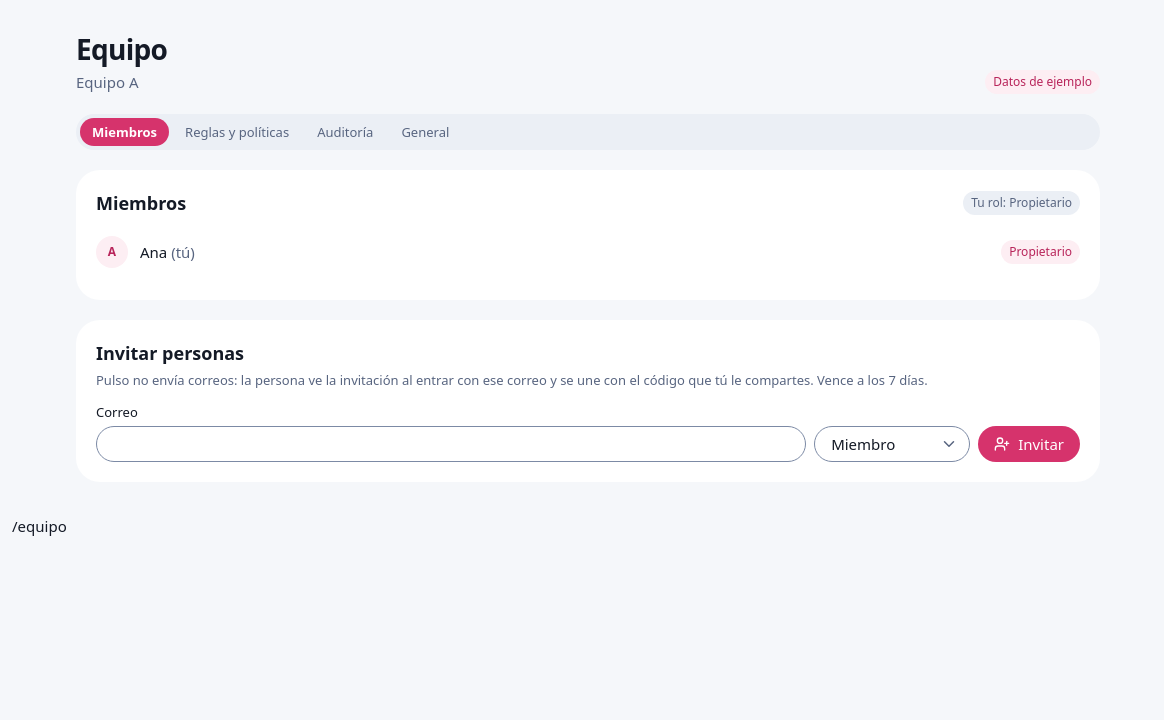
Test: Reglas por app (TA-11, AC-23) › añade «  Code.exe » como «code» con la categoría elegida, lo muestra y reenvía las reglas a Rust
Click the tab "Reglas y políticas" at (237,132), box top-left (173, 118), bottom-right (301, 146)
(page scrolled)
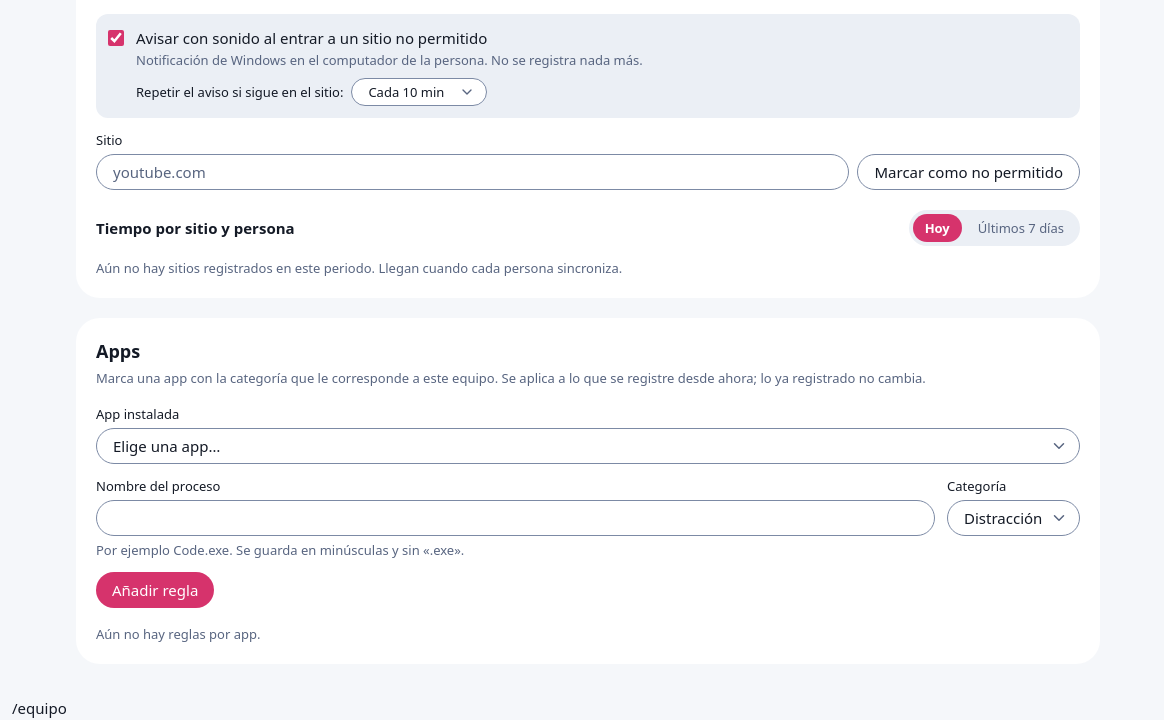
Type "  Code.exe " into the field labelled "Nombre del proceso" at (516,518), box top-left (96, 500), bottom-right (935, 536)
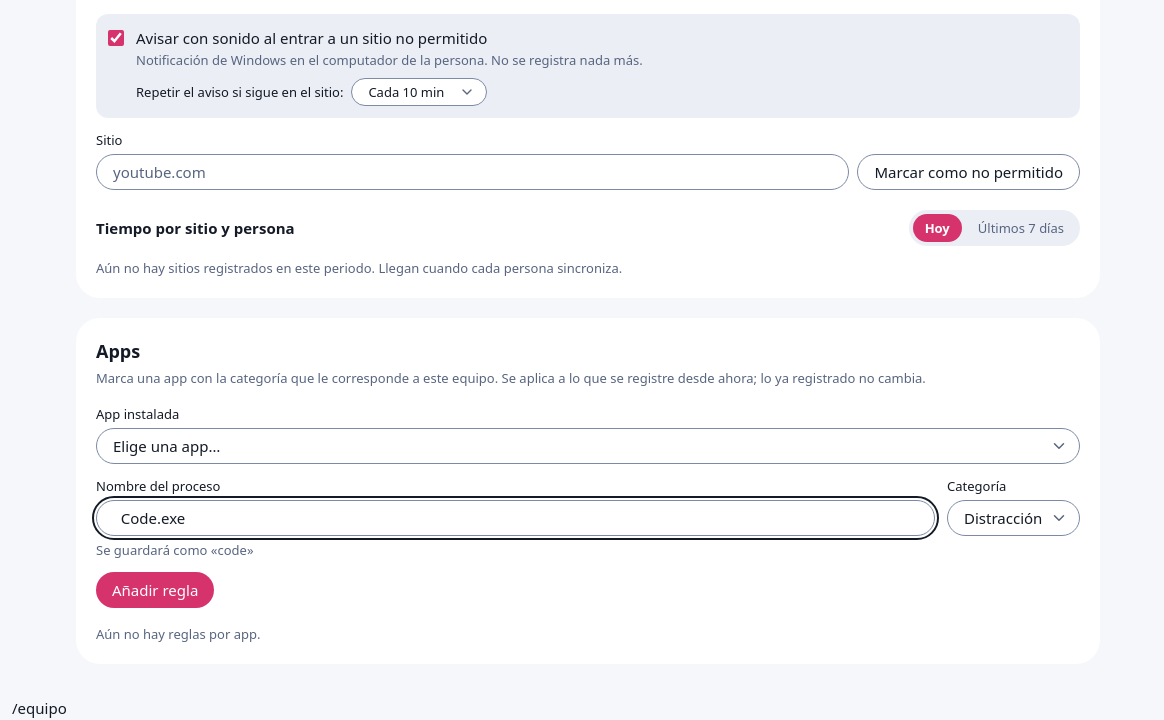
Check: the text "Se guardará como «code»" is shown, box top-left (96, 541), bottom-right (254, 559)
Select "Productivo" in the dropdown labelled "Categoría" at (1014,518), box top-left (947, 500), bottom-right (1080, 536)
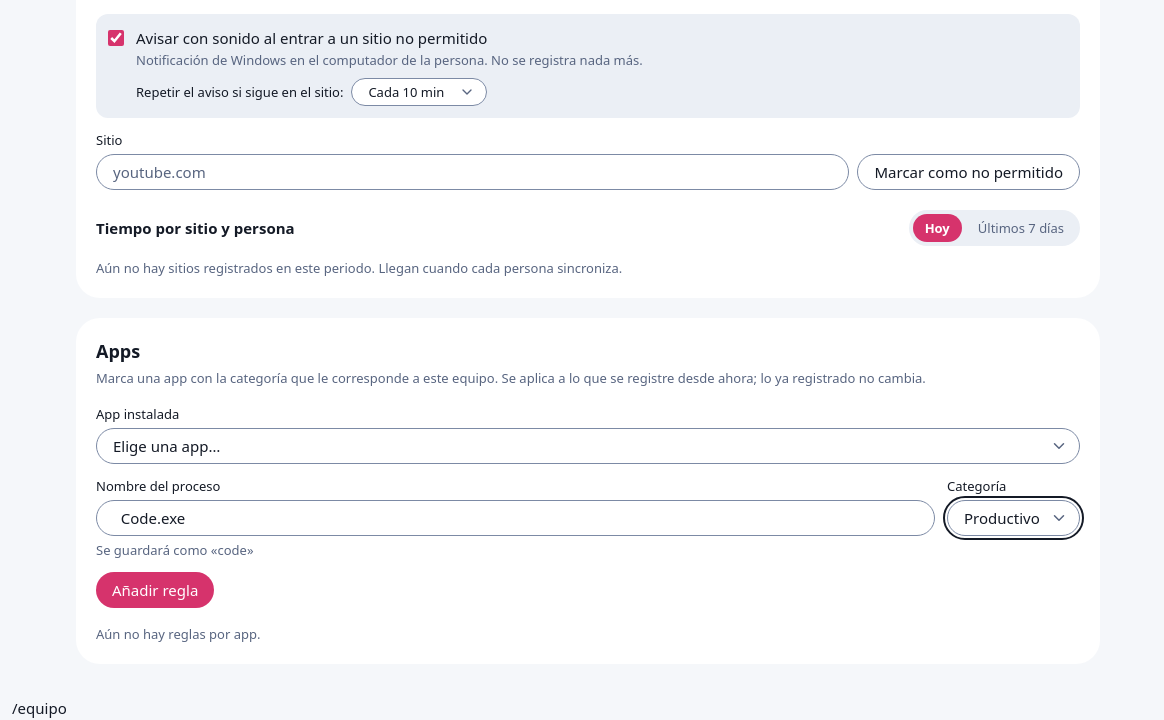
Click the button "Añadir regla" at (155,590), box top-left (96, 572), bottom-right (214, 608)
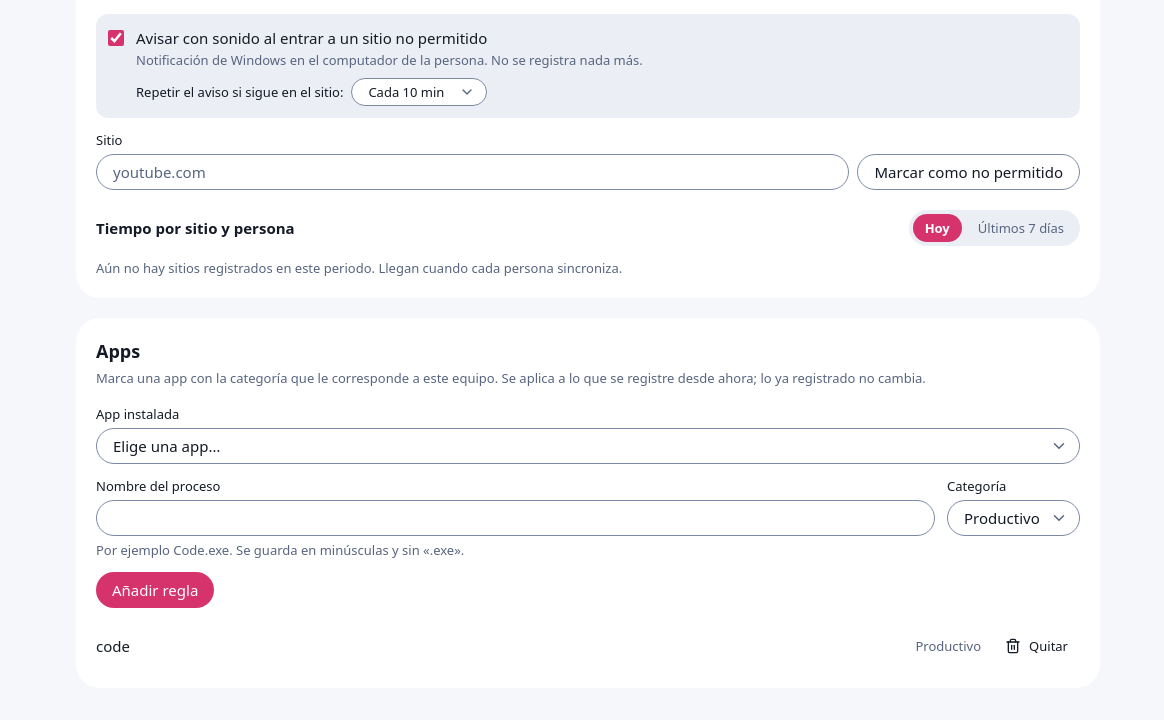
Check: the list named "Reglas por app" shows "code", box top-left (96, 636), bottom-right (130, 656)
Check: the list named "Reglas por app" shows "Productivo", box top-left (916, 637), bottom-right (981, 655)
Check: the field labelled "Nombre del proceso" is empty, box top-left (96, 500), bottom-right (935, 536)
